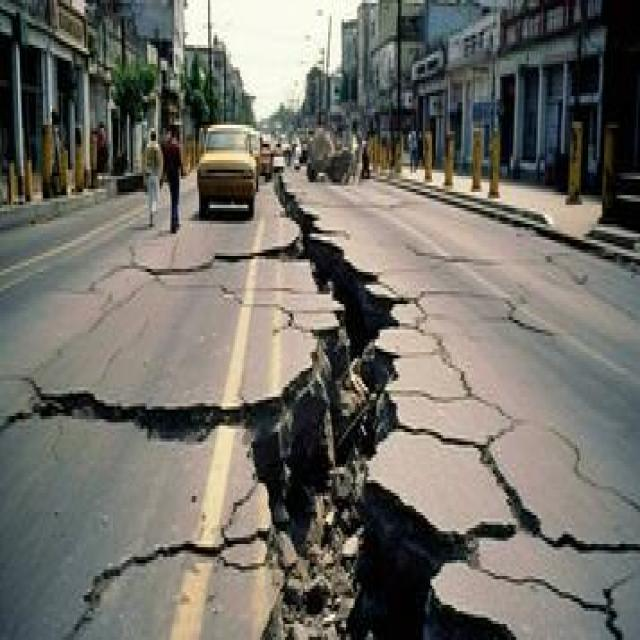road collapse: (51, 117, 640, 640)
